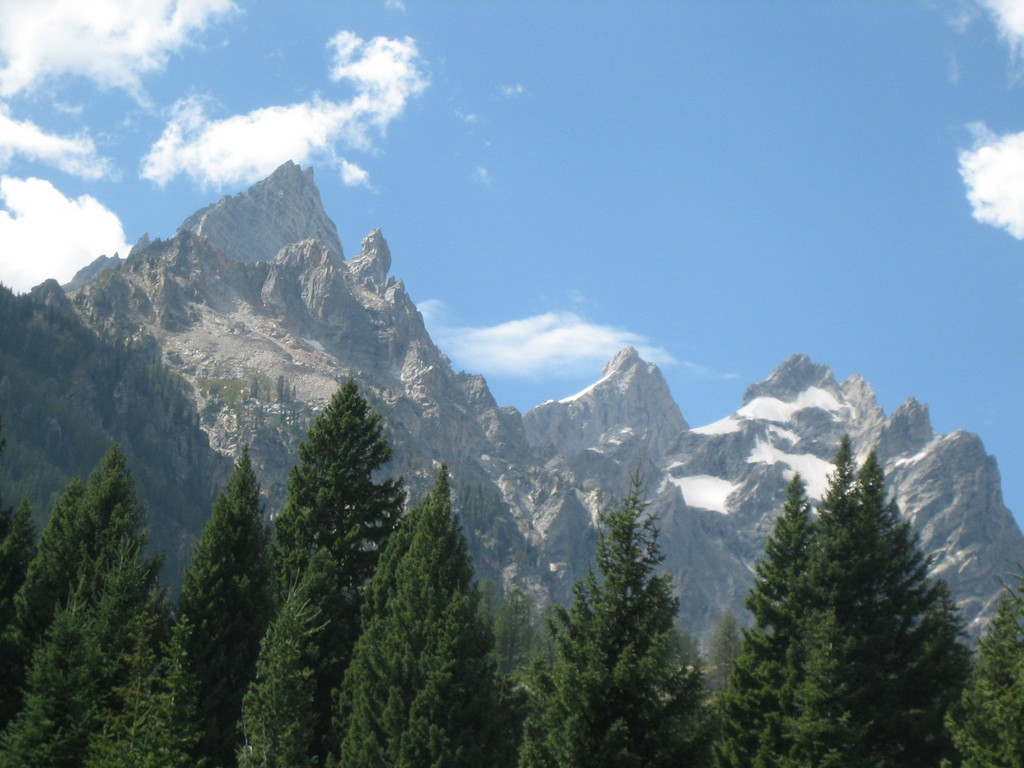Tree: (0, 377, 1024, 768)
